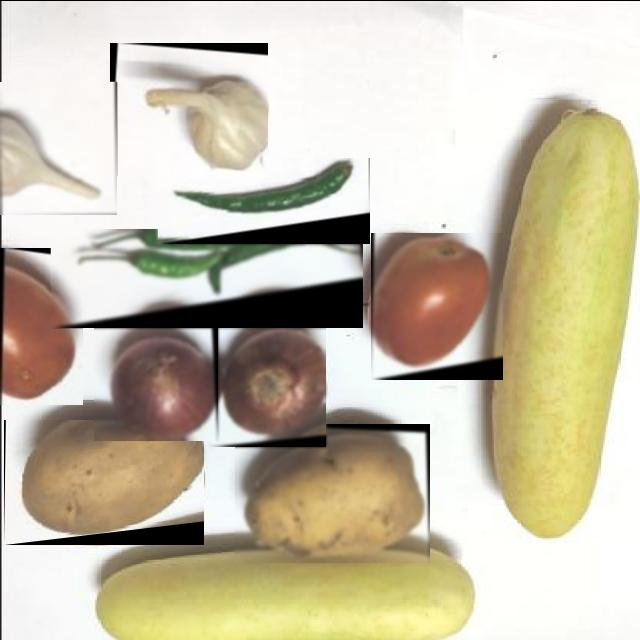Pepper: (51, 228, 363, 327), (158, 157, 370, 243)
garlic: (110, 42, 268, 175), (0, 81, 117, 214)
onion: (94, 322, 218, 440), (209, 326, 326, 446)
potato: (235, 423, 430, 562), (4, 419, 204, 544)
tomato: (371, 232, 503, 379), (0, 247, 83, 404)
